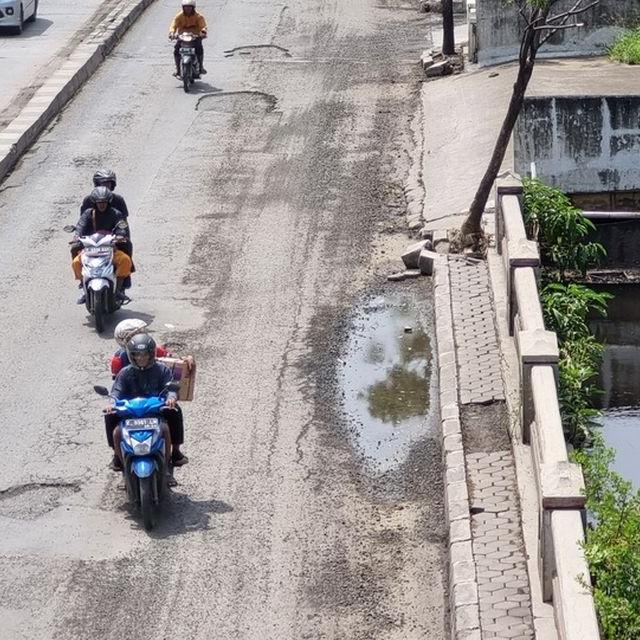lubang_kecil: (300, 256, 440, 520), (0, 452, 90, 548), (170, 70, 292, 134), (212, 24, 302, 70)
retak_kulit_buaya: (32, 360, 100, 454)
retak_memanjang: (364, 100, 432, 232)
